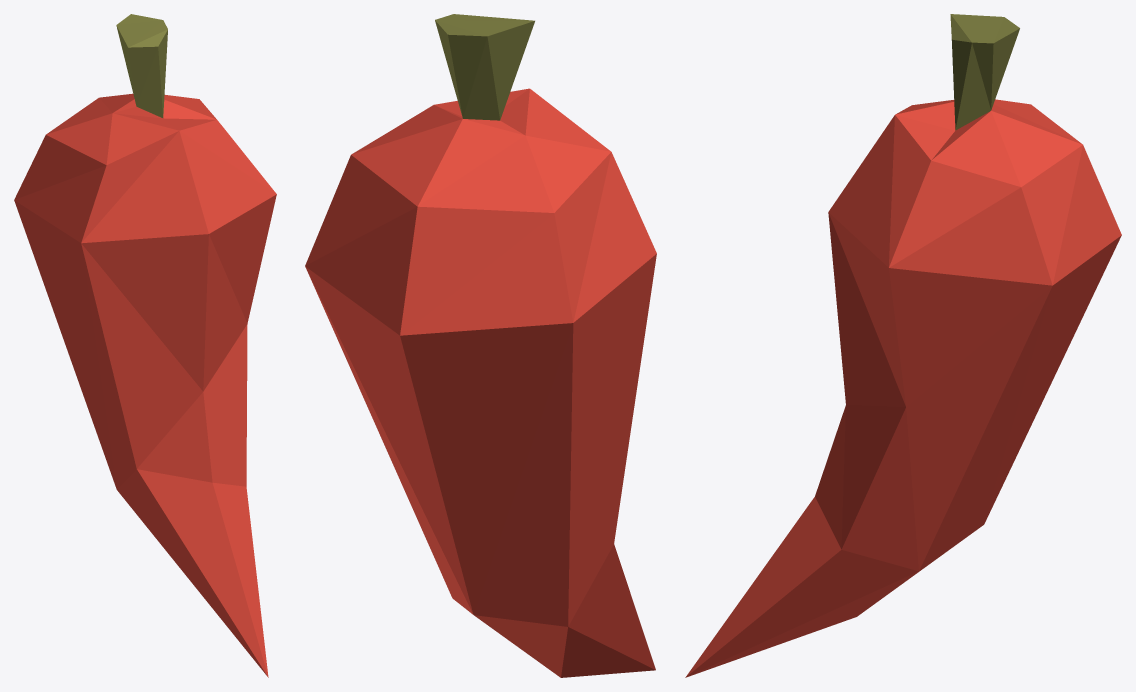
The model's file is SFM_FVC_Chilli.fbx.
3 views of the same model, side by side, from view 1: azimuth 30°, elevation 25°; view 2: azimuth 150°, elevation 25°; view 3: azimuth 270°, elevation 25° (orthographic). The views are drawn at different scales.
Parts seen in each view (by area): view 1: SFM_FVC_Chilli; view 2: SFM_FVC_Chilli; view 3: SFM_FVC_Chilli.
Boxes of the visible parts, box(x1,y1,x2,y2) form: SFM_FVC_Chilli: box(14, 14, 276, 677); SFM_FVC_Chilli: box(305, 14, 656, 677); SFM_FVC_Chilli: box(685, 14, 1121, 677).
Size of the model in its own units: 3.06 by 8.46 by 5.13.
